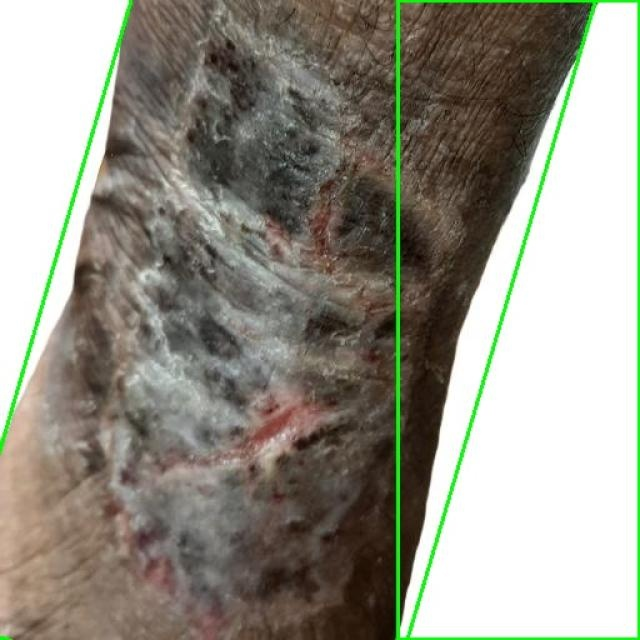Eczema: (0, 0, 596, 640), (398, 0, 639, 639)
